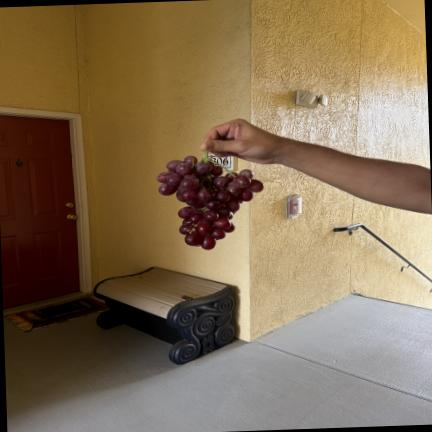grape_cluster: (157, 152, 264, 250)
